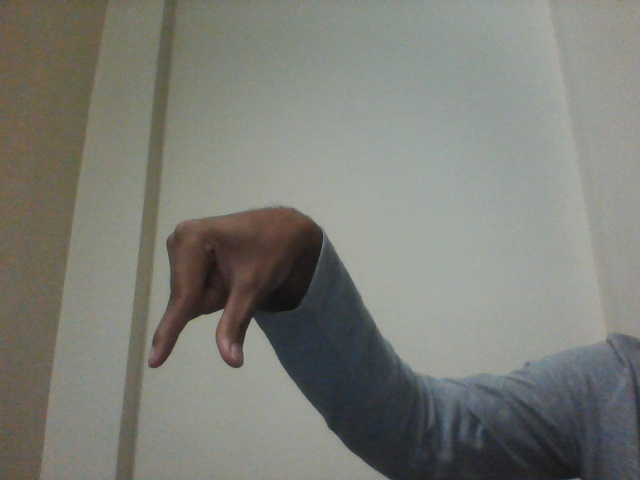q: (132, 198, 308, 390)
